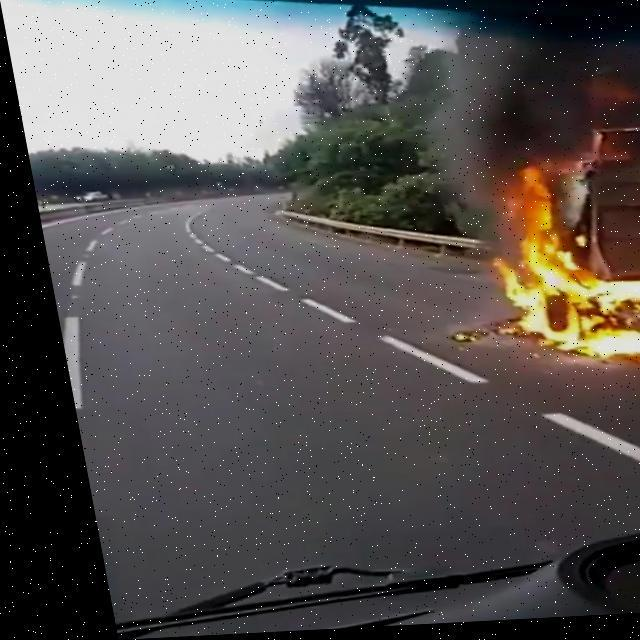Fire: (454, 167, 639, 378)
